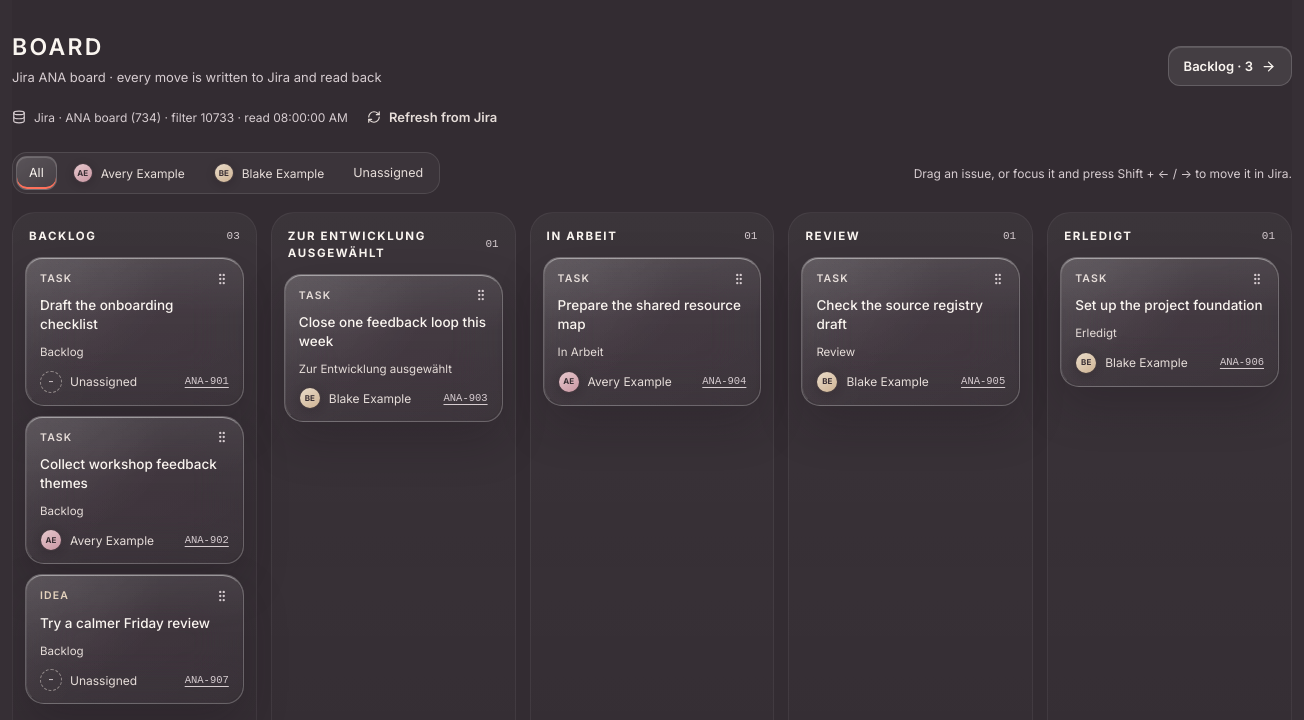
Test: Board — Jira projection › a failed refresh keeps the last Jira read visible but dated, marked UNKNOWN, and pauses moves
The width and height of the screenshot is (1304, 720).
expect the element with test id "work-source" is shown: met, box 12,100 -> 508,134
Click the button with test id "work-refresh" at (432, 117), box 356,100 -> 508,134
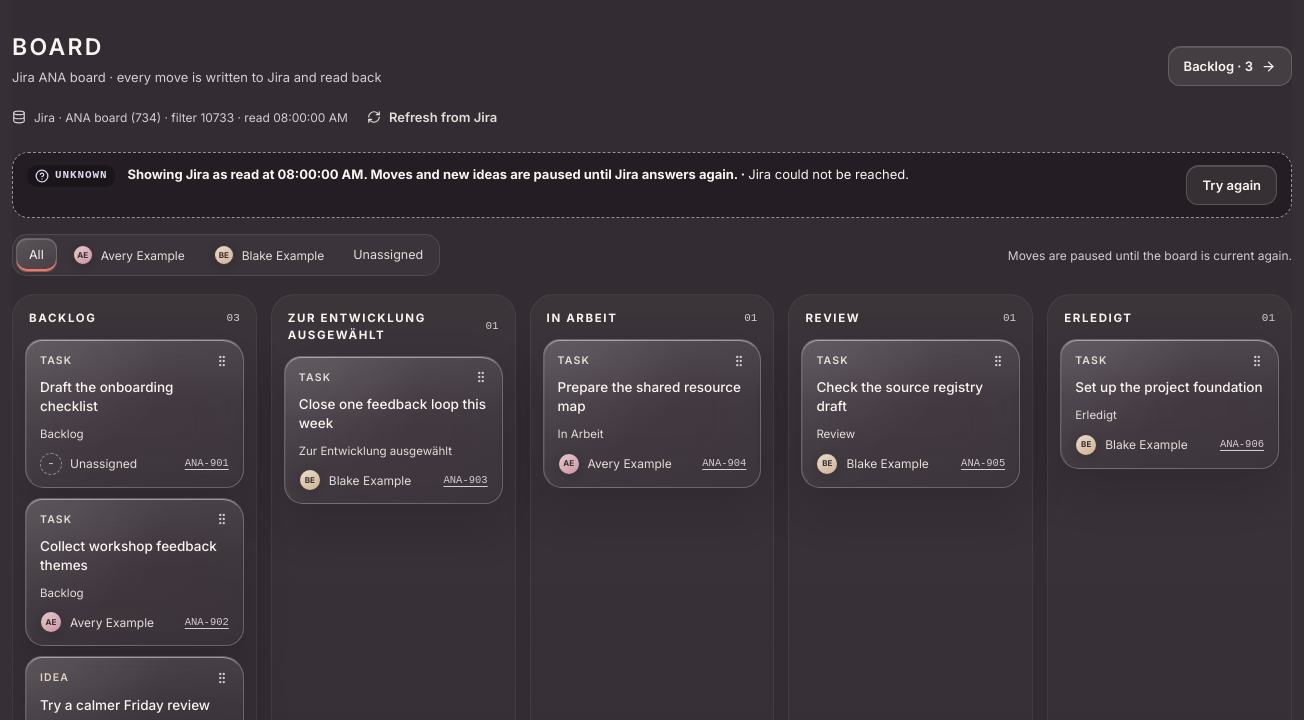
expect the message with test id "work-stale" shows "Moves and new ideas are paused": met, box 127,166 -> 738,182
